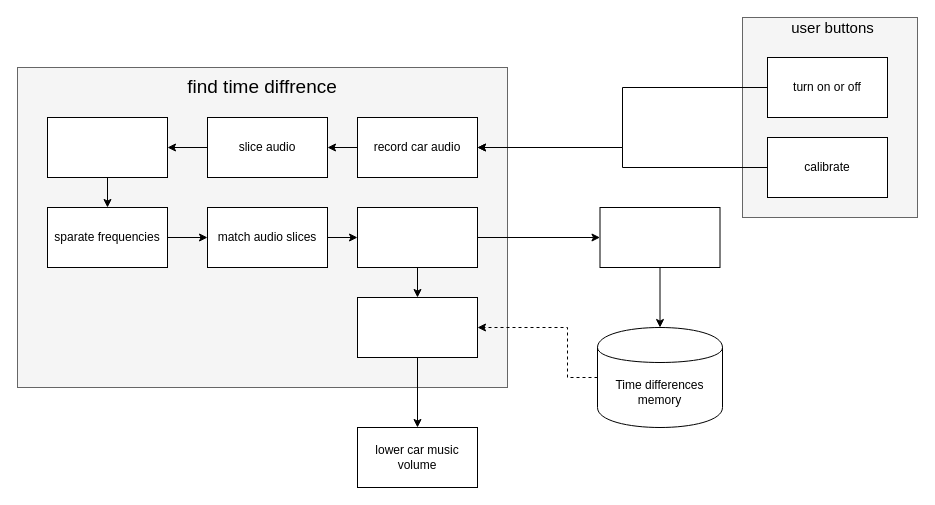
This 935x505 diagram has some shape labels left out. The shapes that lost their labels are listed below. From the top down, each one's box as (x1, y1, x2, y2) in pixels, then its label:
(46, 116, 168, 178): transfer audio to data
(356, 206, 478, 268): measure time difference
(599, 206, 720, 268): remember time difference
(356, 296, 478, 358): match time differences
